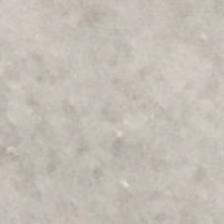Non_Crack: (8, 9, 220, 220)
